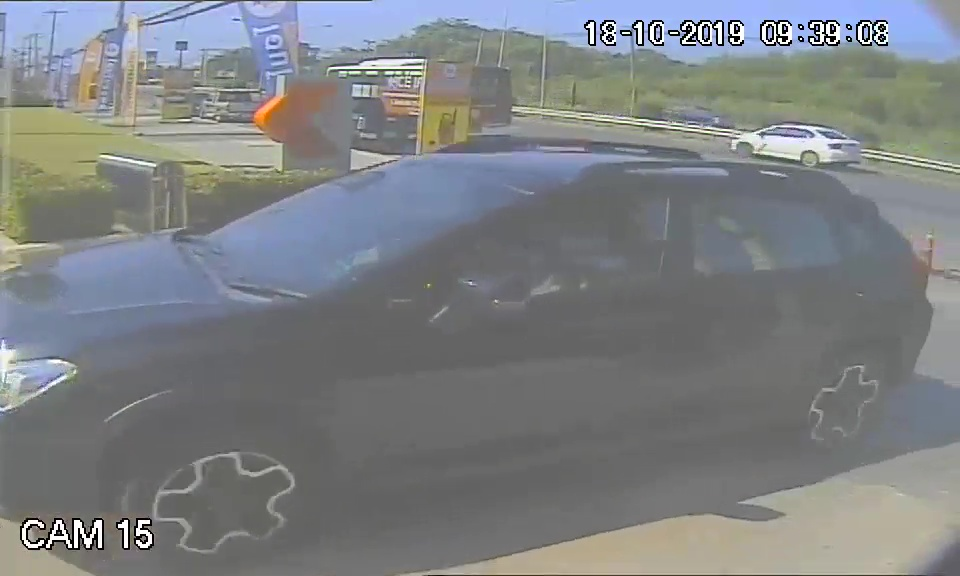pickup: (9, 146, 927, 478)
